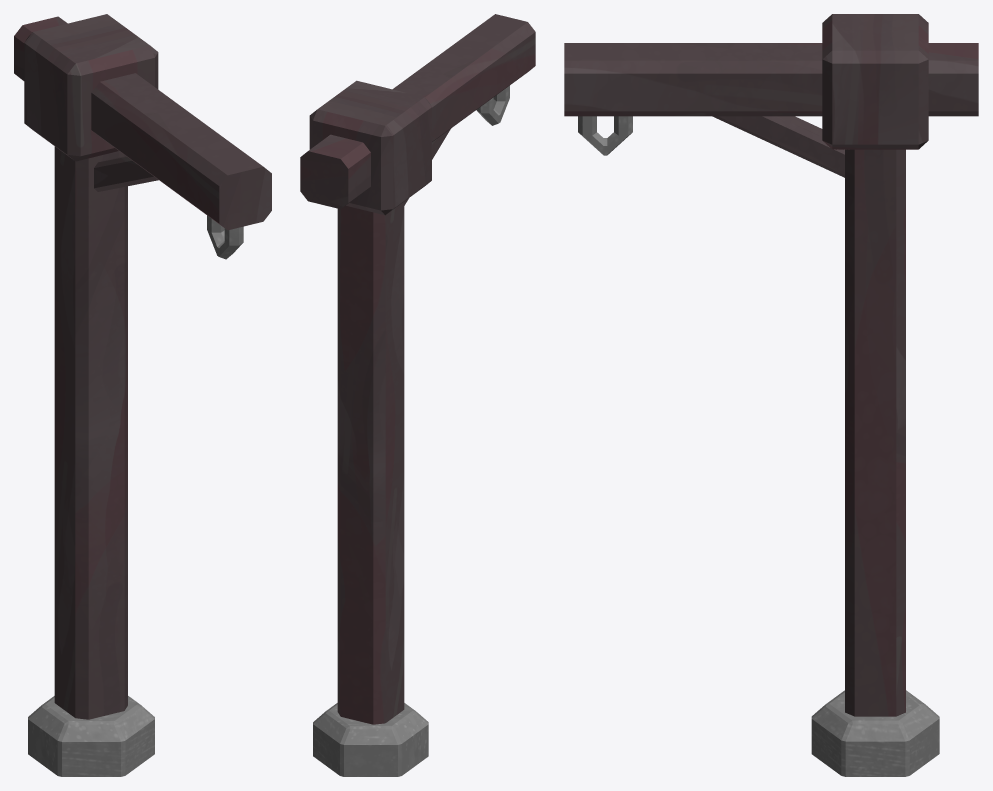
File: Lantern_Post.fbx
3 views of the same model, side by side, from view 1: azimuth 30°, elevation 25°; view 2: azimuth 150°, elevation 25°; view 3: azimuth 270°, elevation 25° (orthographic). The views are drawn at different scales.
Parts seen in each view (by area): view 1: lantern post; view 2: lantern post; view 3: lantern post.
Part boxes in pixels (x1,y1,x2,y2): lantern post: (14, 14, 271, 776); lantern post: (300, 14, 535, 776); lantern post: (564, 14, 978, 776).
Size of the model in its own units: 49.81 by 350 by 182.
